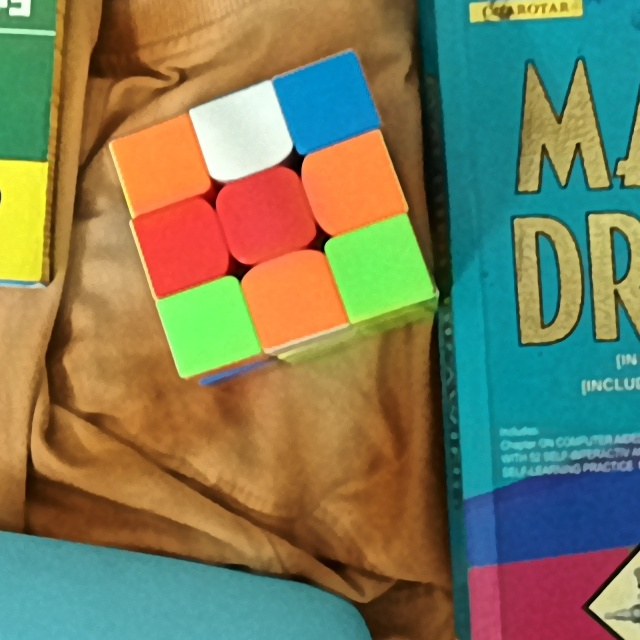tile: (257, 266, 327, 328), (316, 154, 383, 217), (230, 186, 303, 243), (346, 237, 415, 296), (149, 216, 214, 277), (211, 104, 276, 164), (129, 137, 194, 195), (177, 297, 242, 354), (294, 75, 359, 130)
